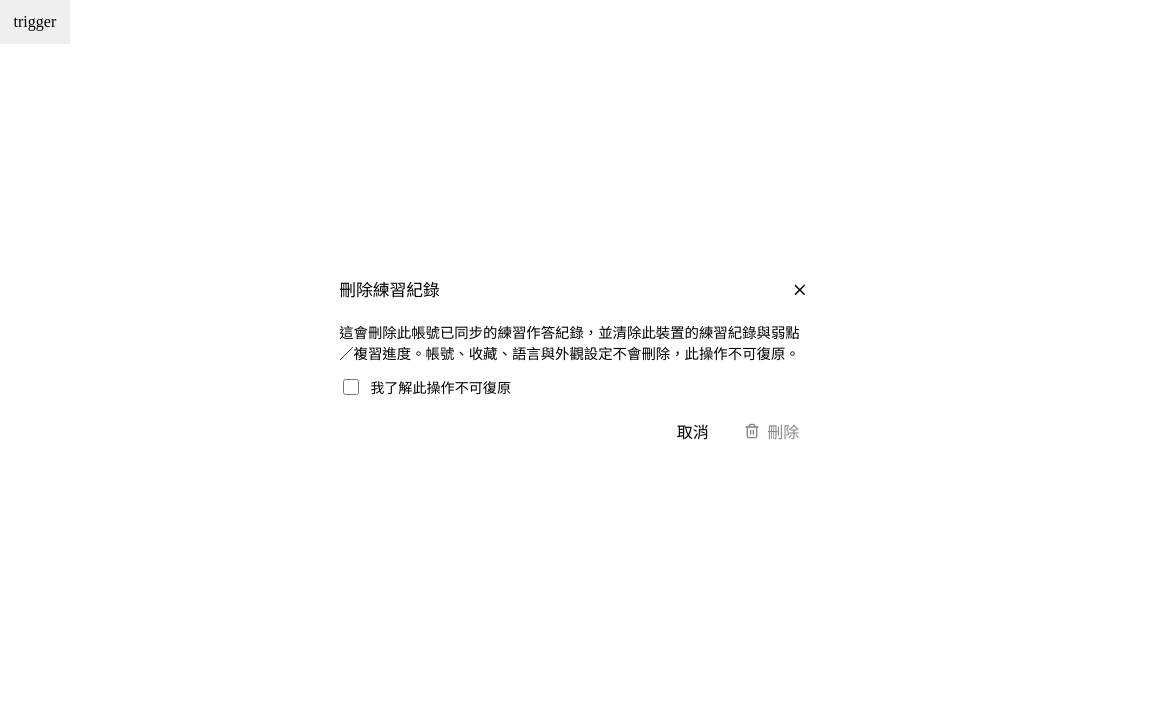
DeletePracticeHistoryDialog (#693) › on failure keeps the dialog open and shows a retryable error; success never renders
What coordinates should you click on to do the following:
click the checkbox labelled "我了解此操作不可復原"
I would click on:
 (351, 386)
Its box is [343,378,359,394].
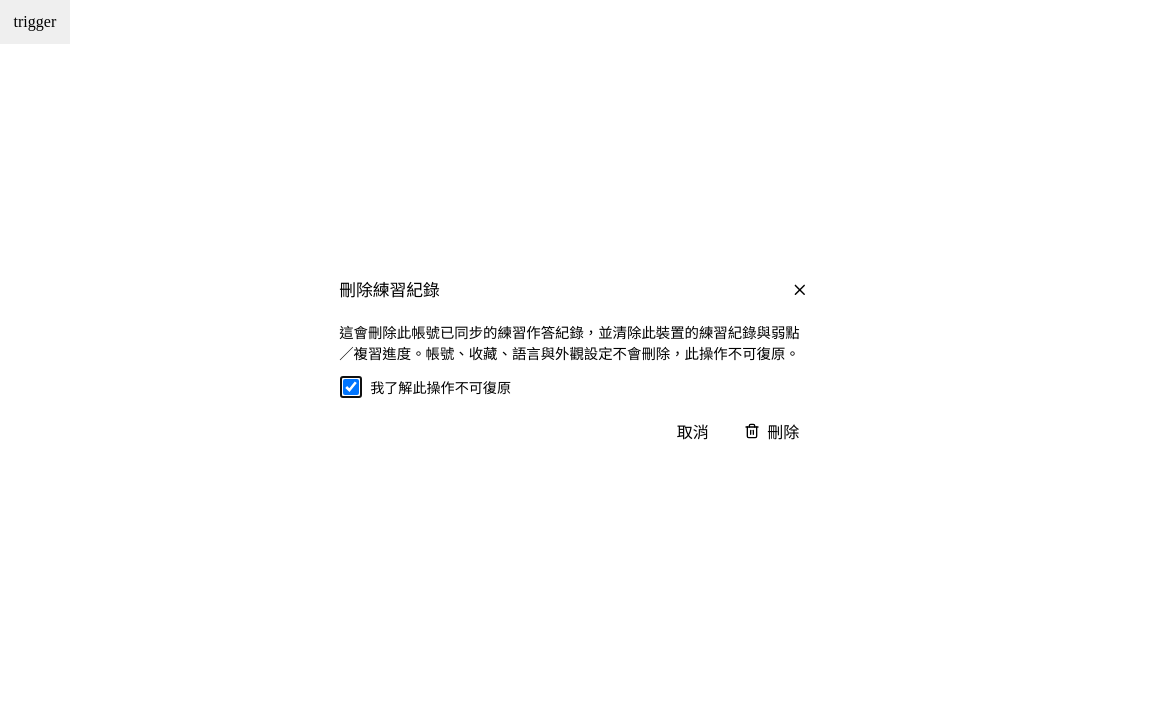
What coordinates should you click on to do the following:
click the button "刪除"
I would click on:
 (772, 431)
Its box is [730,409,813,453].
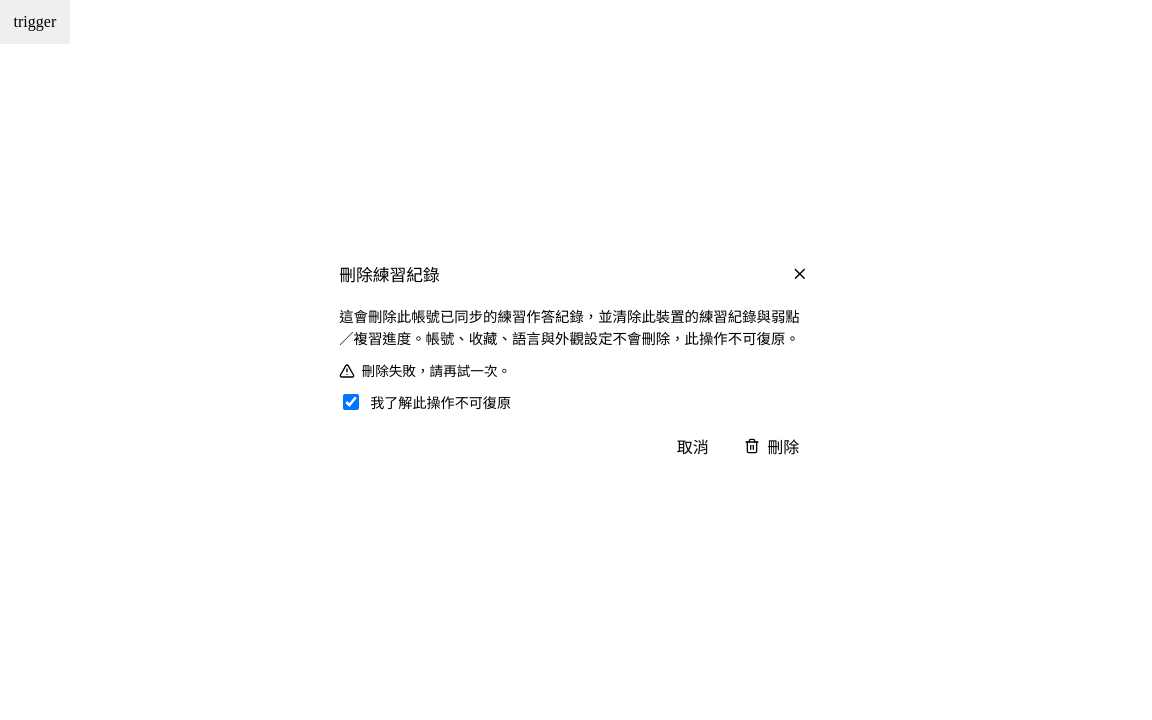
Expected: the dialog "刪除練習紀錄" is shown, [320,235,832,485]
Expected: the button "刪除" is enabled, [730,424,813,468]
Expected: the message reads "刪除失敗，請再試一次。", [362,364,511,379]
